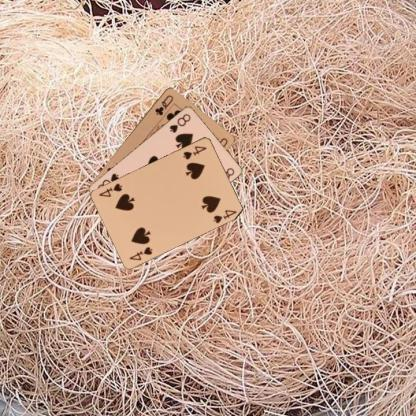4s: (181, 143, 208, 161), (127, 244, 154, 261)
8s: (167, 111, 192, 134)
Qc: (152, 92, 174, 117)
